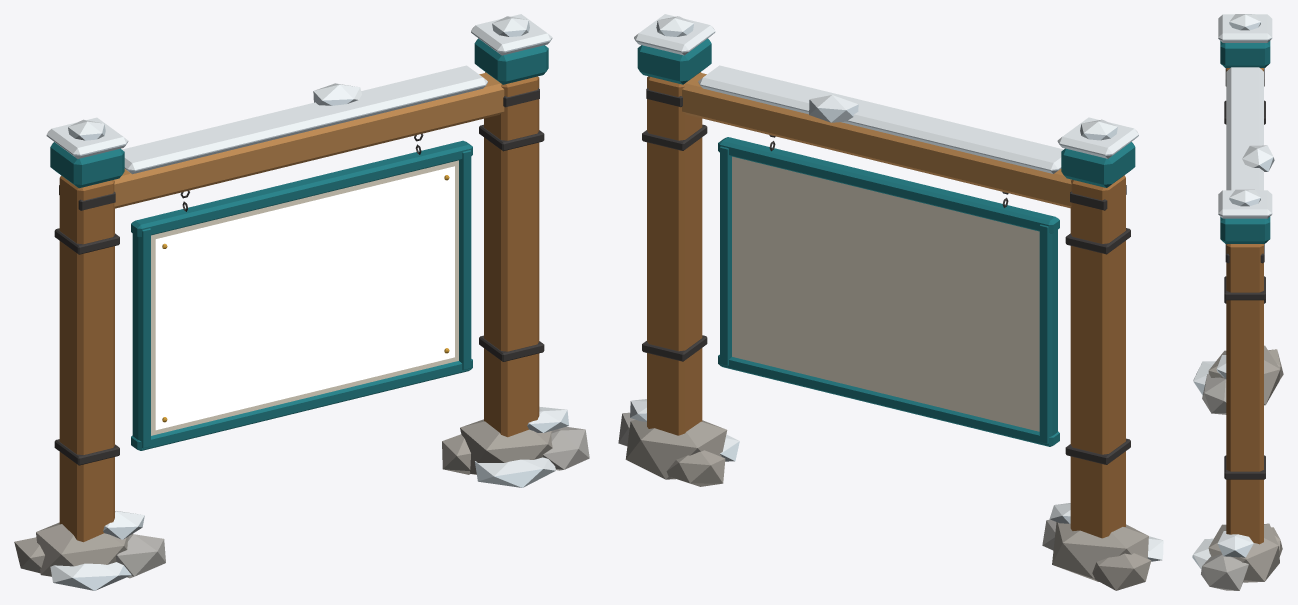
The model's file is world_map_board.glb.
3 renders of one model, left to right at view 1: azimuth 30°, elevation 25°; view 2: azimuth 150°, elevation 25°; view 3: azimuth 270°, elevation 25°, orthographic. The views are drawn at different scales.
Visible parts, largest first — view 1: world_map_board; view 2: world_map_board; view 3: world_map_board.
Boxes of the visible parts, left/top/right/bottom form: world_map_board: left=14, top=14, right=589, bottom=590; world_map_board: left=618, top=14, right=1163, bottom=590; world_map_board: left=1192, top=14, right=1283, bottom=590.
Size of the model in its own units: 2.57 by 2.08 by 0.4398.
